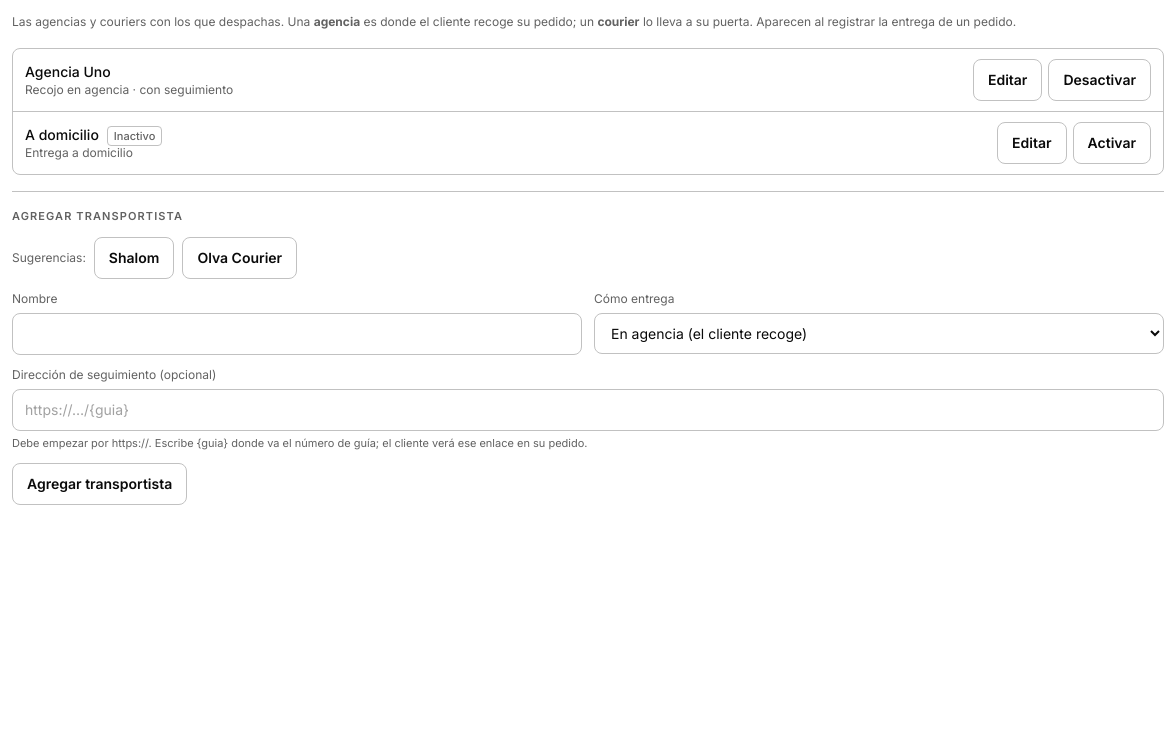
Test: «Transportistas» › what the server refuses is said under its field
Type "Otra" into the field labelled "Nombre". click: coordinates (297, 334)
box: [12, 312, 582, 354]
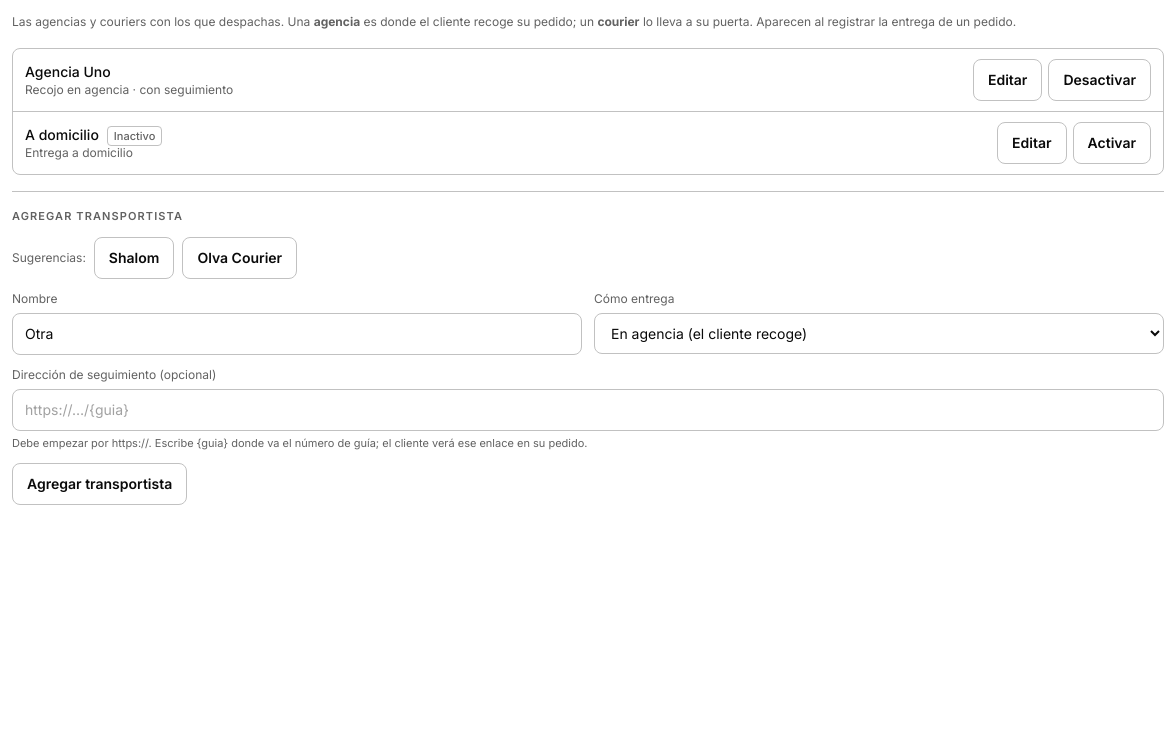
Type "javascript:alert(1)" into the field labelled "Dirección de seguimiento (opcional)". click: coordinates (588, 410)
box: [12, 388, 1164, 430]
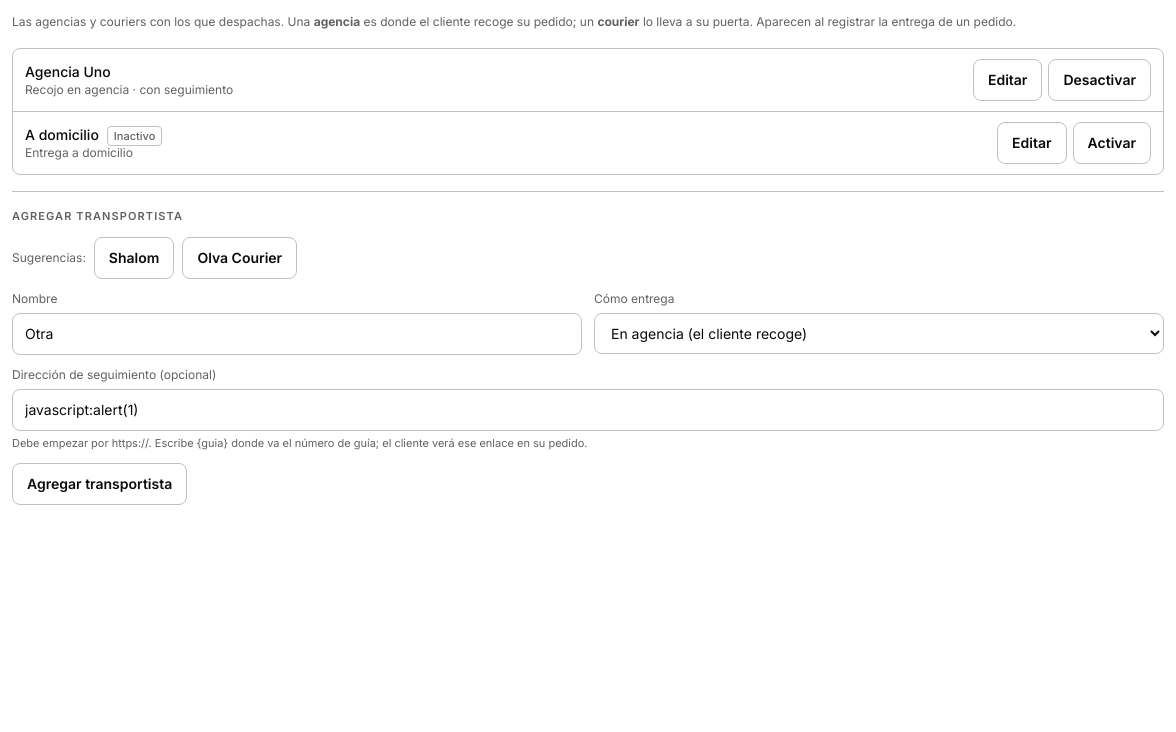
Click the button "Agregar transportista". click: coordinates (100, 484)
box: [12, 463, 187, 505]
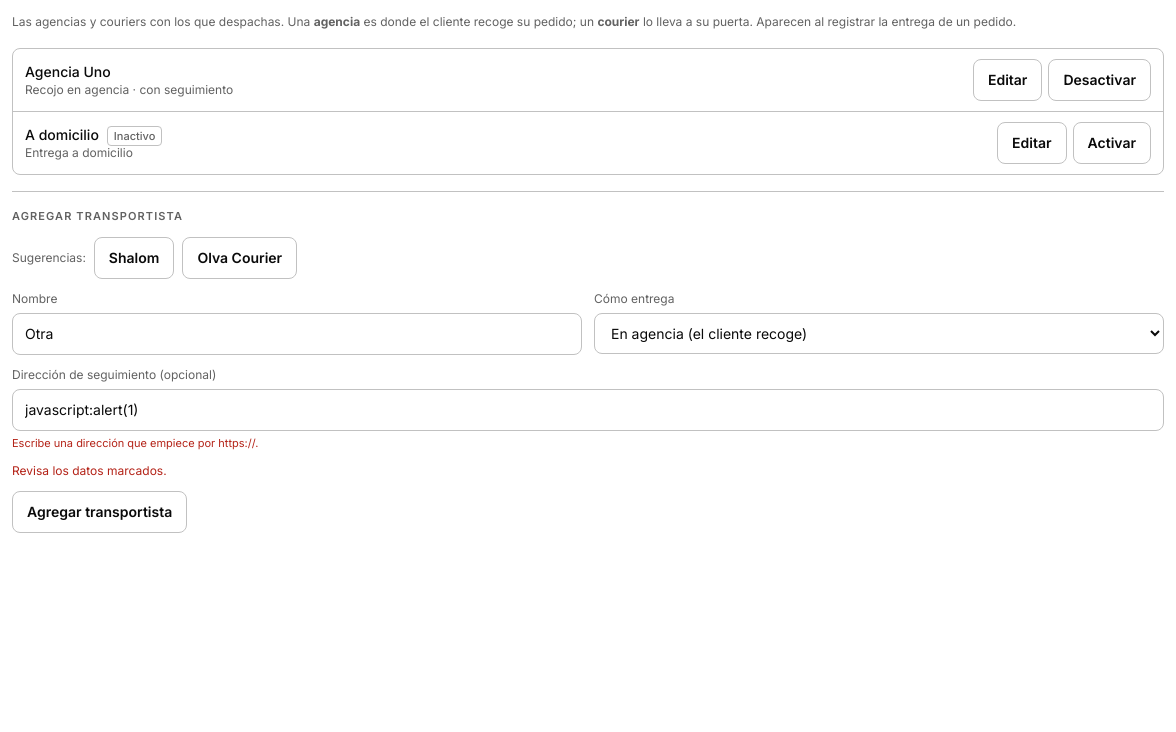
Expected: the text "Escribe una dirección que empiece por https://." is shown, [12, 436, 258, 450]
